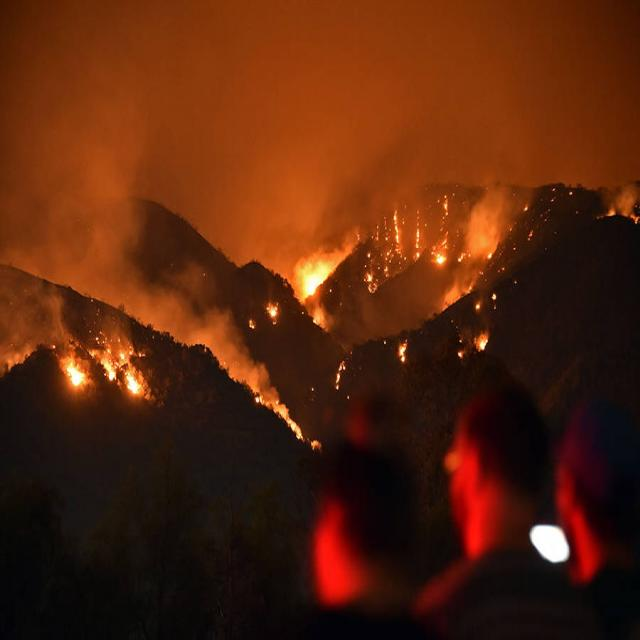Fire: (294, 254, 343, 299), (100, 358, 144, 396), (62, 360, 85, 388)
